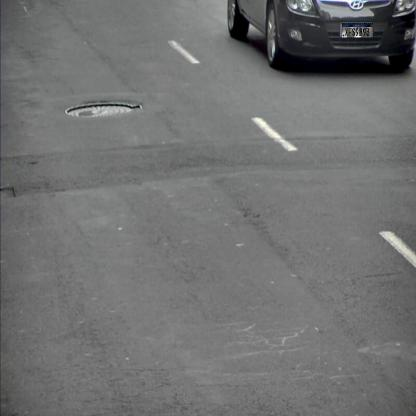PlacaM: (342, 23, 373, 38)
